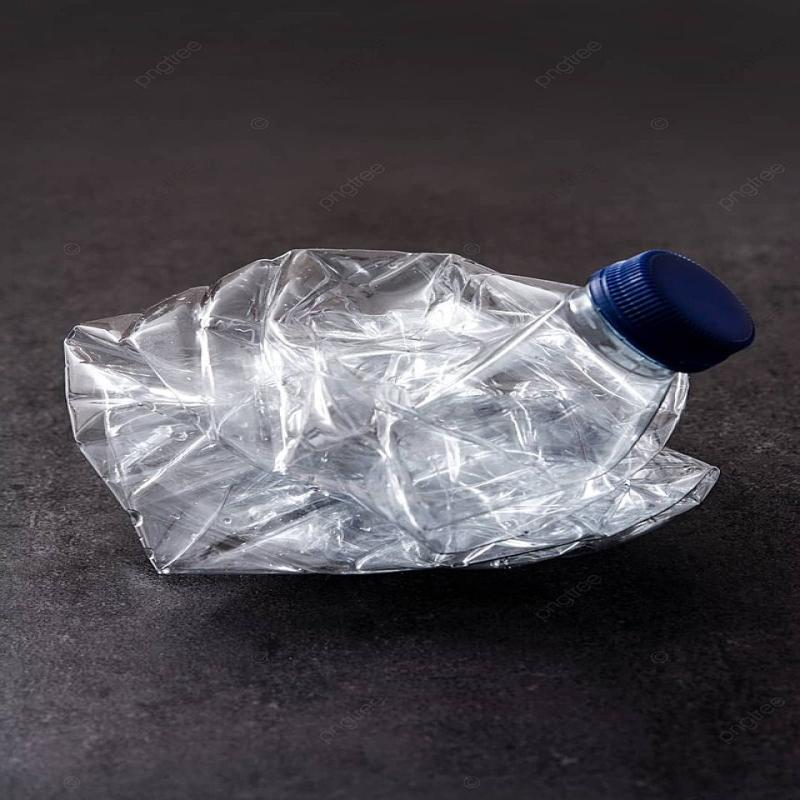botella: (58, 234, 750, 573)
